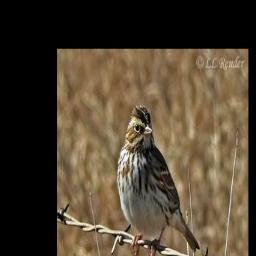Sparrow: (114, 103, 201, 256)
